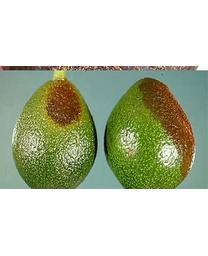avocado: (103, 76, 197, 189), (10, 77, 99, 188)
